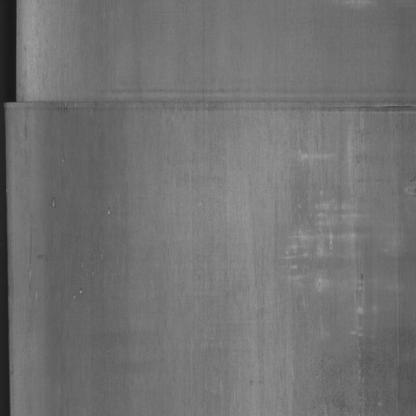welding_line: (2, 88, 413, 130)
